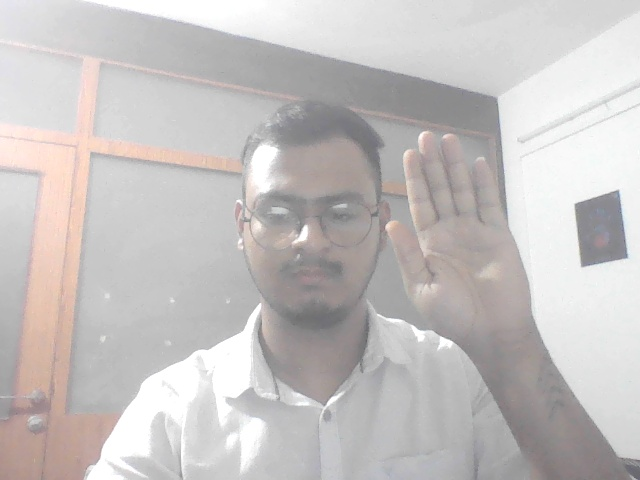Hello: (384, 128, 537, 345)
